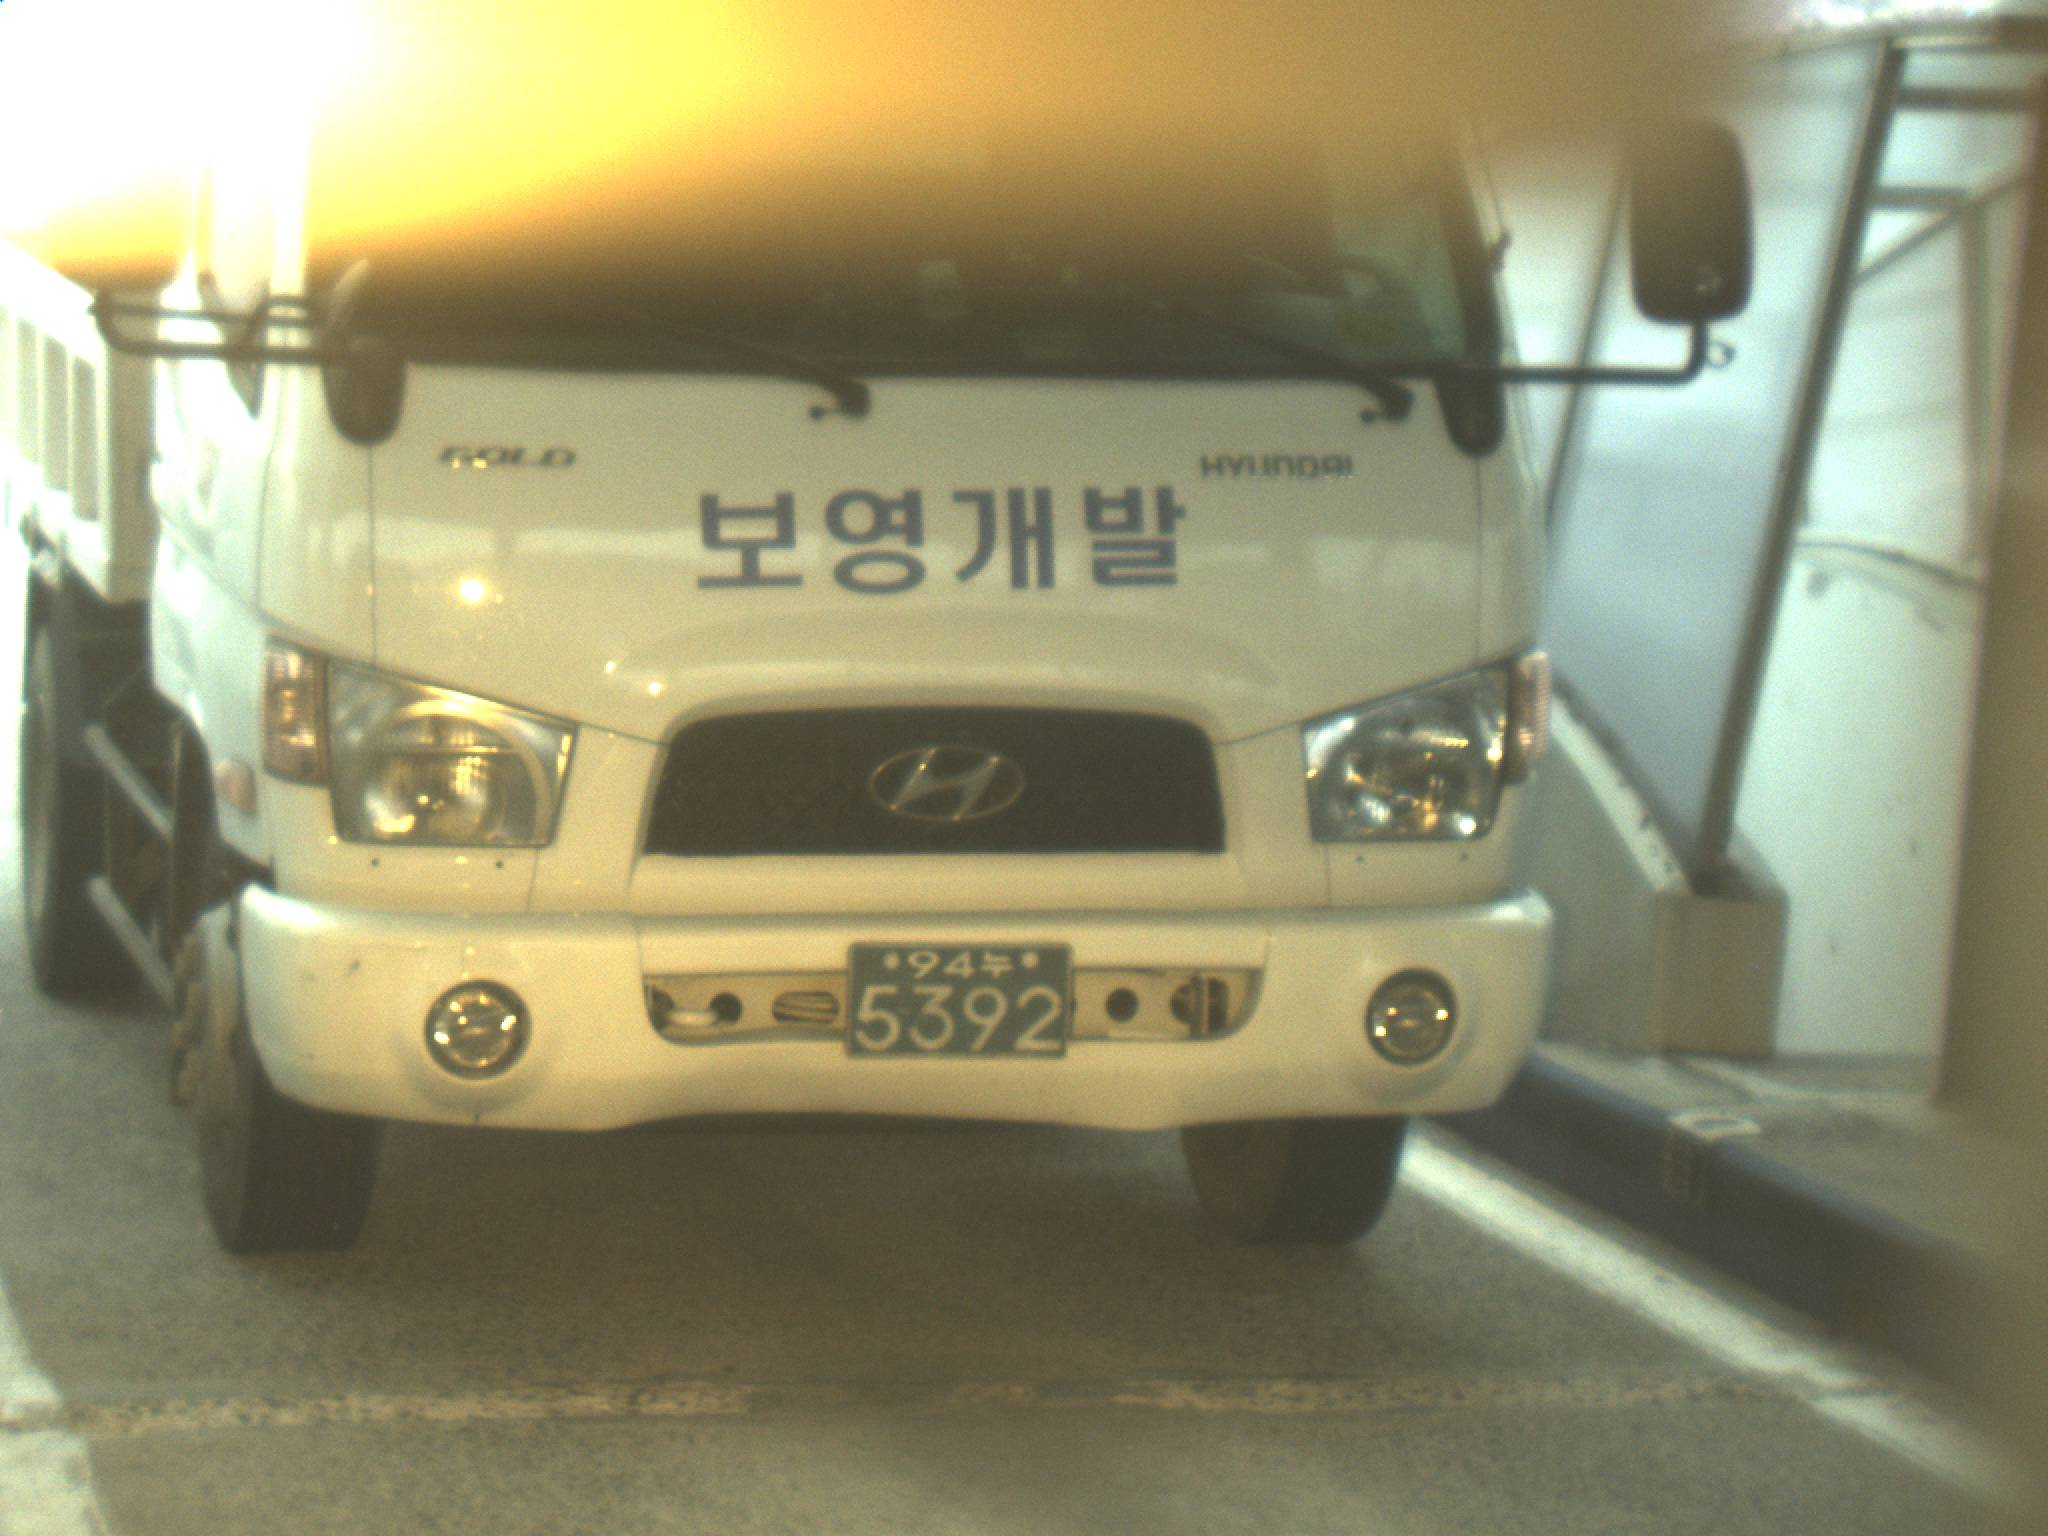car: (4, 115, 1763, 1264)
plate: (846, 934, 1078, 1062)
